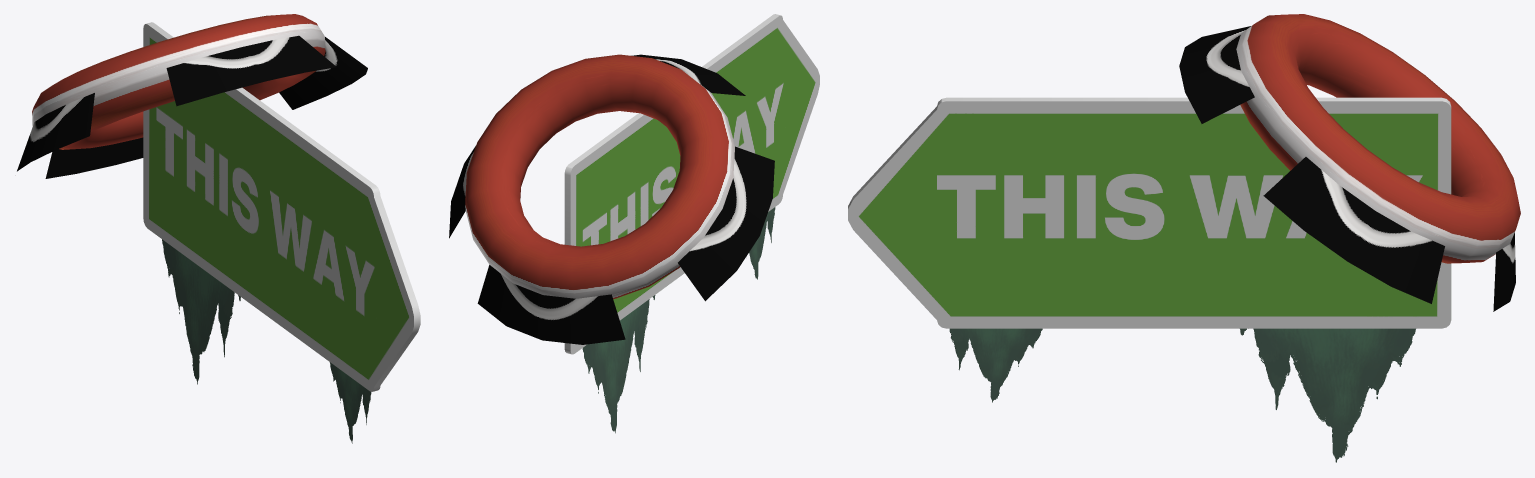
Rendered from CorrectWaySign-Fixed.fbx.
3 renders of one model, left to right at view 1: azimuth 30°, elevation 25°; view 2: azimuth 150°, elevation 25°; view 3: azimuth 270°, elevation 25°, orthographic. The views are drawn at different scales.
Parts seen in each view (by area): view 1: Torus; view 2: Torus; view 3: Torus.
Boxes of the visible parts, x1,y1,x2,y2 form: Torus: (17, 14, 420, 443); Torus: (449, 14, 819, 433); Torus: (848, 14, 1520, 462).
Bounding box in the file's own units: 2088 × 2381 × 3401.
